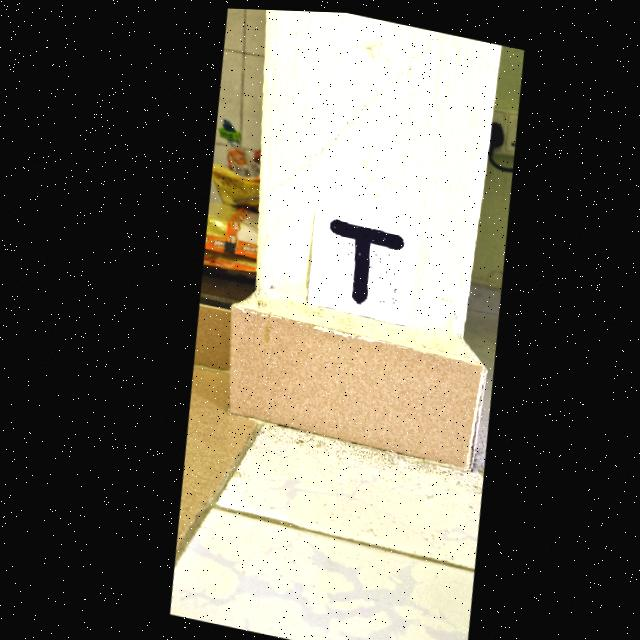T: (325, 217, 399, 300)
